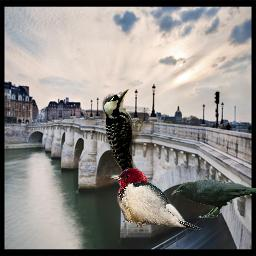Crow: (171, 179, 256, 219)
Woodpecker: (97, 85, 155, 212), (106, 168, 202, 230)
